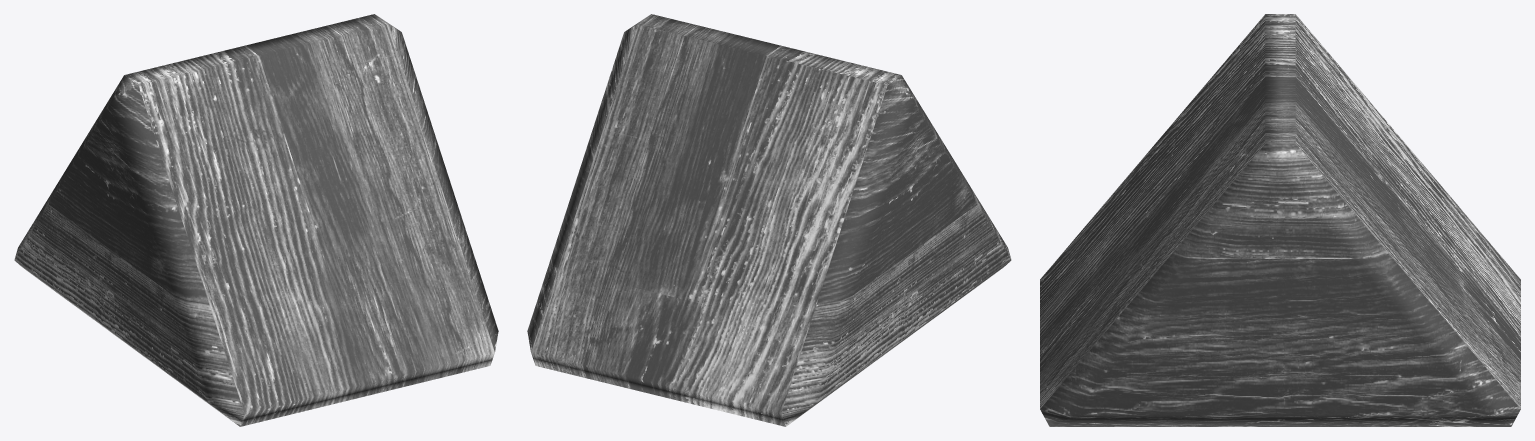
The model's file is SM_Toy_A1.fbx.
The picture shows the model from 3 angles, left to right: view 1: azimuth 30°, elevation 25°; view 2: azimuth 150°, elevation 25°; view 3: azimuth 270°, elevation 25°; orthographic projection. The views are drawn at different scales.
Parts seen in each view (by area): view 1: SM_Toy_A1; view 2: SM_Toy_A1; view 3: SM_Toy_A1.
Boxes of the visible parts, <box> form: SM_Toy_A1: <box>14,14,498,426</box>; SM_Toy_A1: <box>527,14,1011,426</box>; SM_Toy_A1: <box>1040,14,1520,426</box>.
Size of the model in its own units: 10.4 by 14.05 by 9.13.
1 material, 1 textured.
